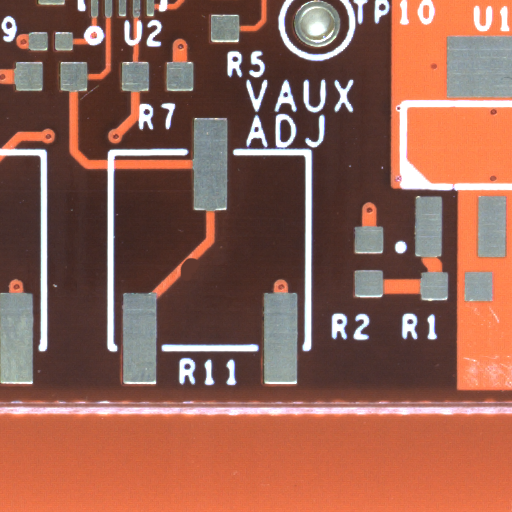Mouse_bite: (189, 267, 216, 296)
